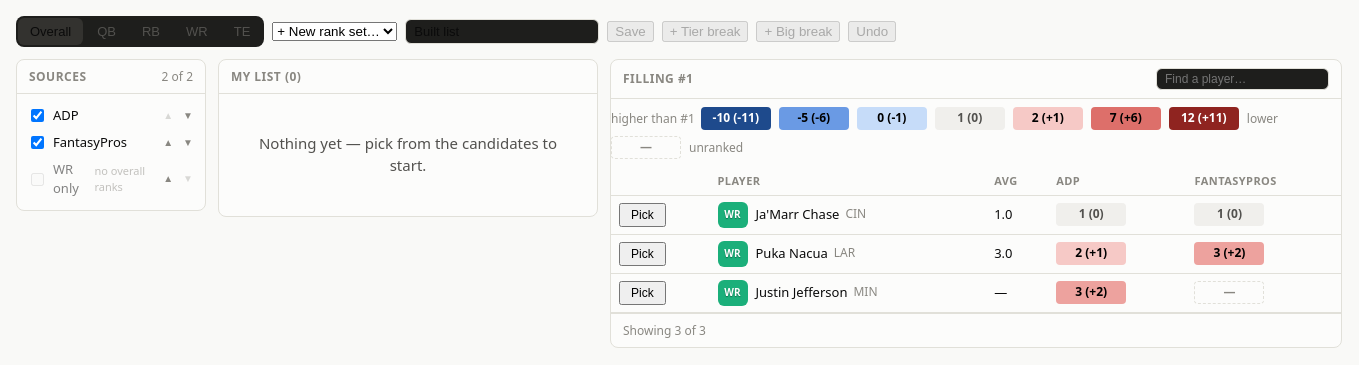
BuildPage › picking a candidate moves them into the list and advances the slot
Expected: the text "Ja'Marr Chase" is shown, [756,204,840,222]
Expected: the column heading "FantasyPros" is shown, [1186,167,1341,195]
Click the button "Pick" in the row of "Ja'Marr Chase".
click(642, 214)  # box [619,202,666,226]
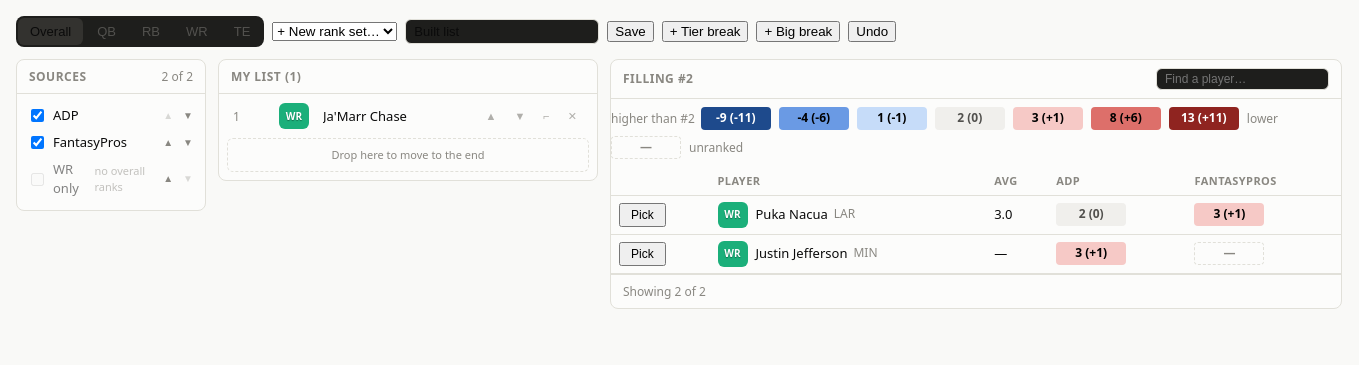
Now the text "Filling #2" is shown, box [623,70,694,88]
Now the text "My list (1)" is shown, box [219,60,597,94]
Now the number of buttons "Pick" is 2, box [619,202,666,226]; [619,242,666,266]
